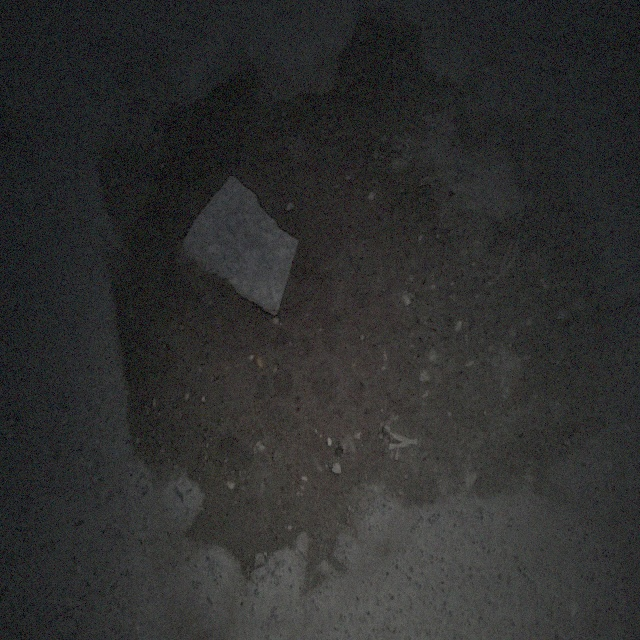pothole: (93, 26, 550, 566)
